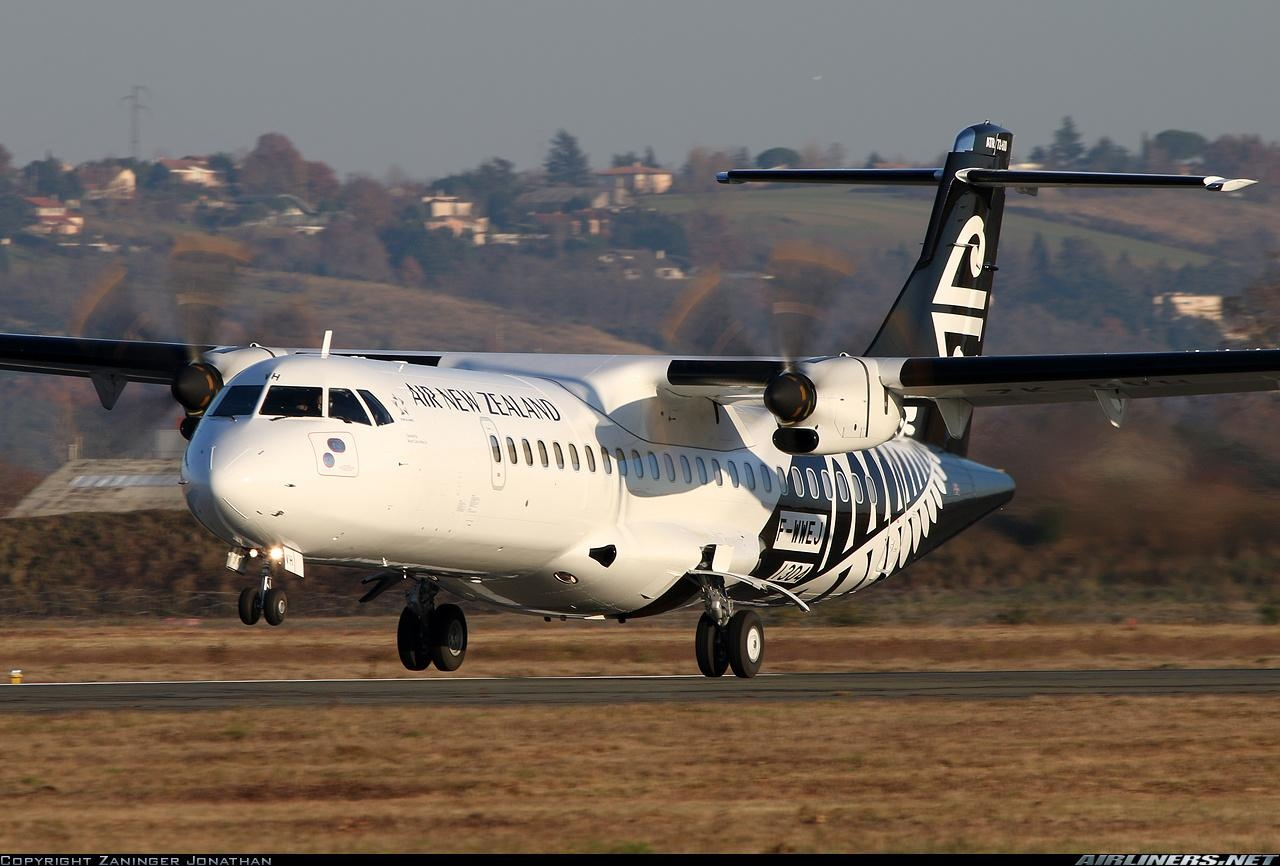aircraft: (24, 120, 1280, 683)
